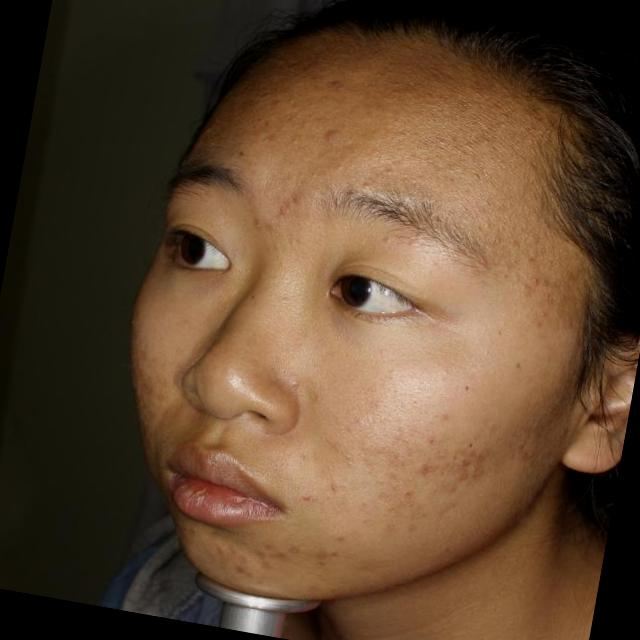acne: (253, 542, 293, 582), (272, 182, 312, 220), (506, 264, 544, 302), (457, 442, 494, 476), (318, 59, 351, 97), (250, 206, 280, 239), (410, 450, 437, 476), (313, 116, 341, 140)
